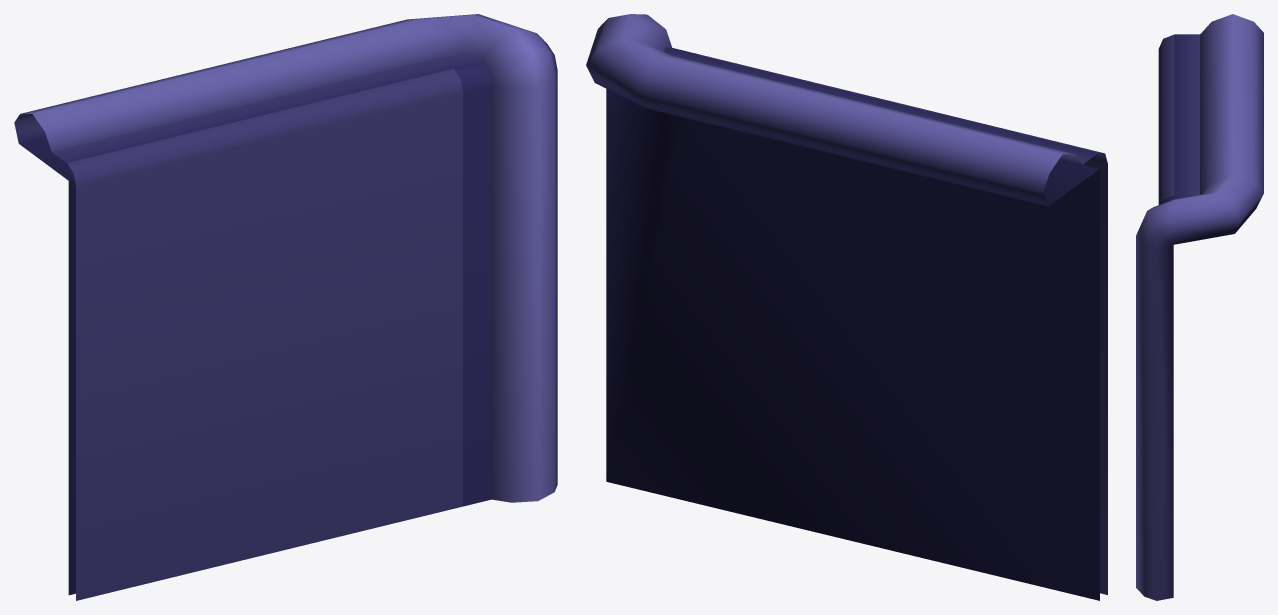
File: carpet_finish_side.fbx
The picture shows the model from 3 angles, left to right: view 1: azimuth 30°, elevation 25°; view 2: azimuth 150°, elevation 25°; view 3: azimuth 270°, elevation 25°; orthographic projection. The views are drawn at different scales.
Visible parts, largest first — view 1: carpet_finish_side; view 2: carpet_finish_side; view 3: carpet_finish_side.
Boxes of the visible parts, box(x1,y1,x2,y2) form: carpet_finish_side: box(14, 14, 557, 600); carpet_finish_side: box(586, 14, 1107, 600); carpet_finish_side: box(1136, 14, 1263, 600).
Size of the model in its own units: 2.38 by 2.15 by 0.6442.
